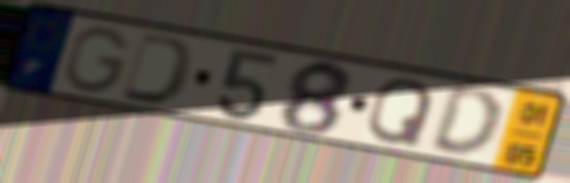5: (214, 45, 284, 123)
8: (278, 58, 357, 137)
D: (116, 29, 200, 109), (425, 85, 504, 161)
G: (60, 24, 136, 96)
Q: (364, 76, 439, 150)
